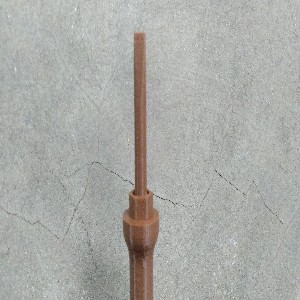obeng: (122, 32, 160, 300)
